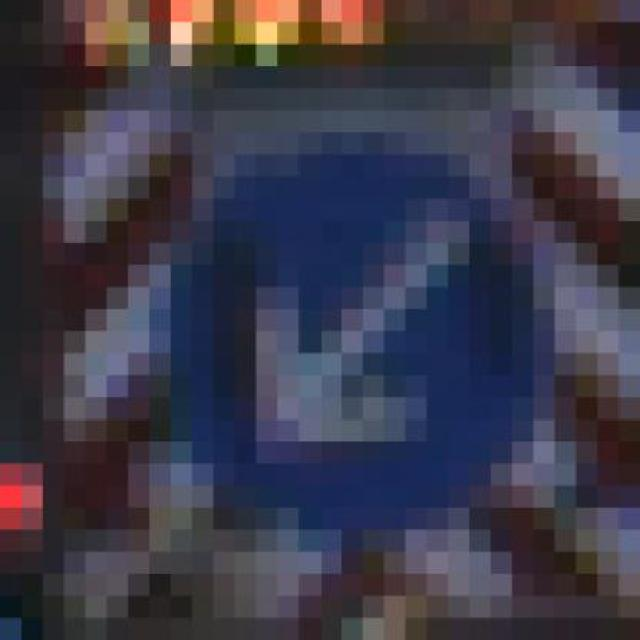Keep-Left: (149, 89, 597, 552)
